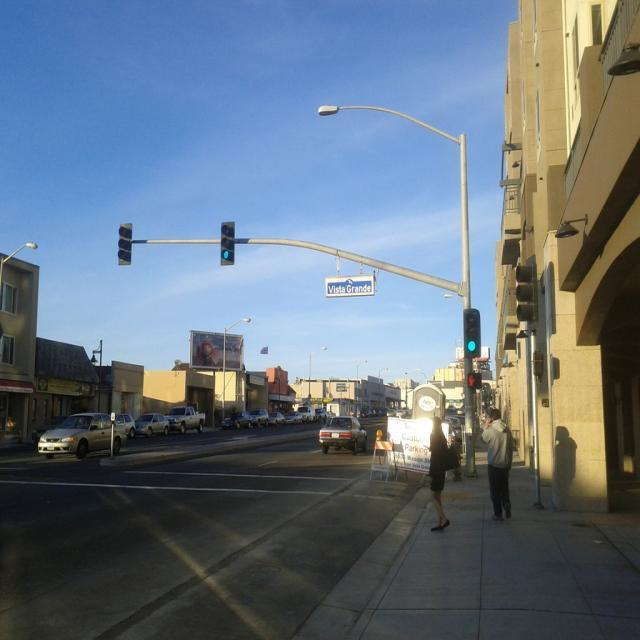off traffic light: (515, 264, 538, 321)
traffic light: (464, 309, 482, 358), (219, 221, 235, 263), (117, 222, 132, 264)
